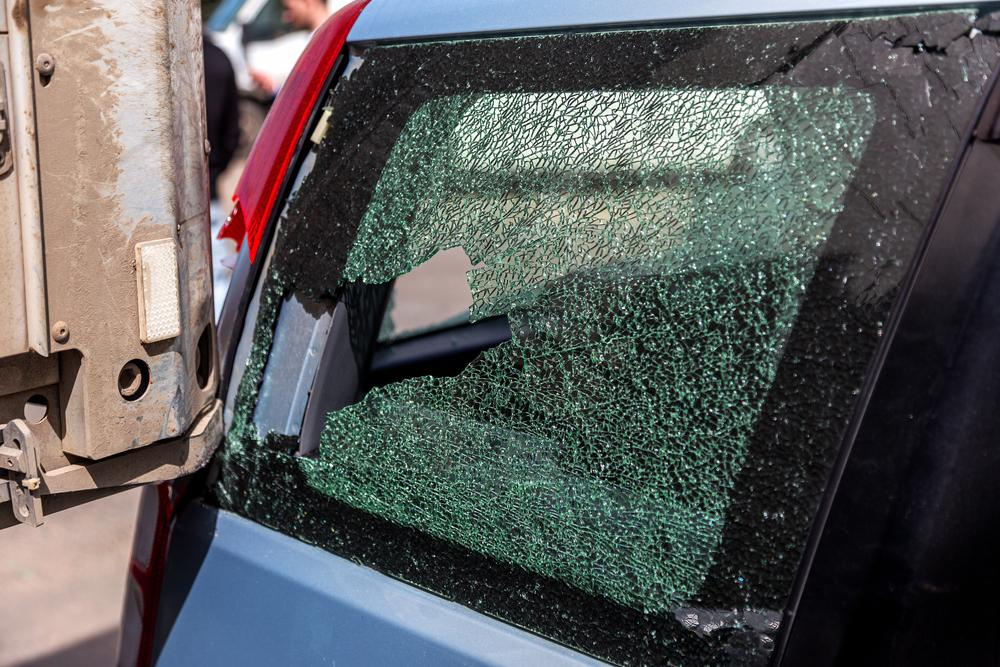glass shatter: (216, 2, 1000, 667)
